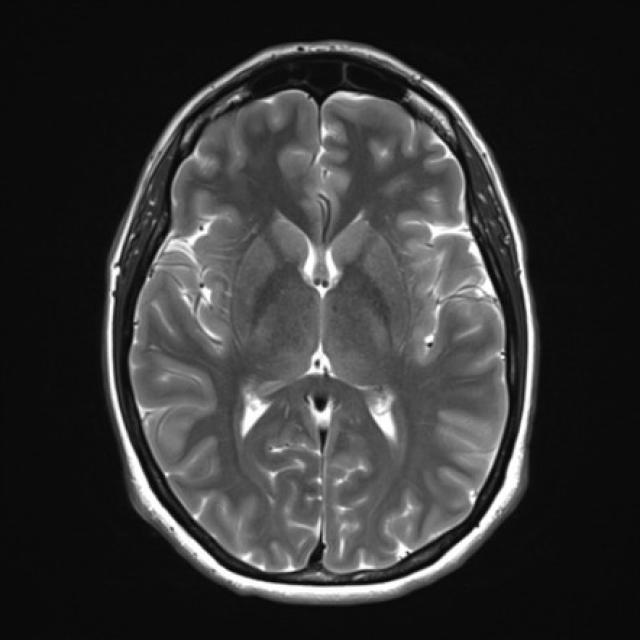No_Tumor: (106, 42, 535, 599)
